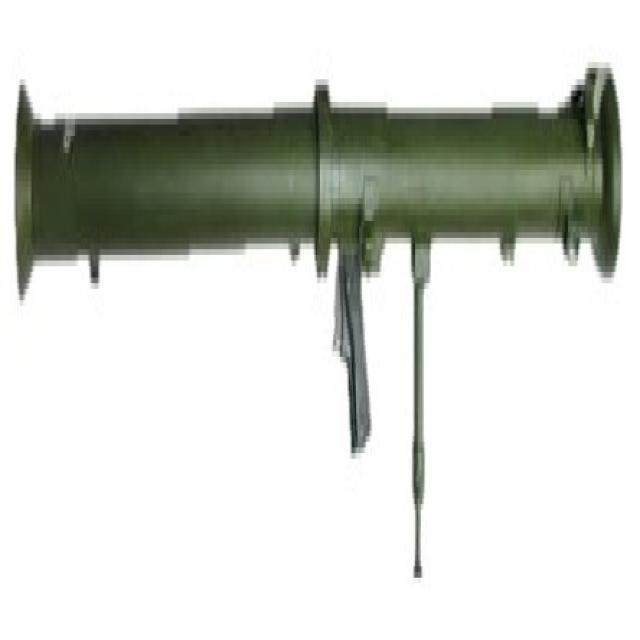bazooka: (11, 50, 627, 598)
